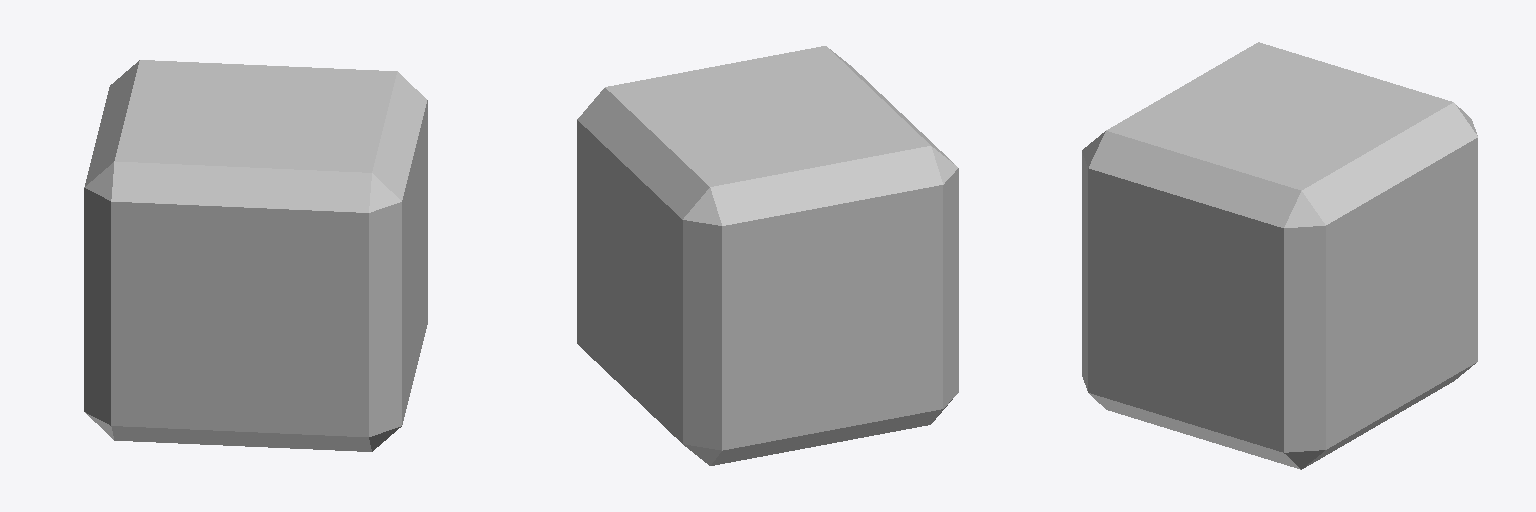
File: IceTowerProjectile.obj
3 renders of one model, left to right at view 1: azimuth 30°, elevation 25°; view 2: azimuth 150°, elevation 25°; view 3: azimuth 270°, elevation 25°, orthographic.
Parts seen in each view (by area): view 1: IceCube; view 2: IceCube; view 3: IceCube.
Part boxes in pixels (left/top/right/bottom): IceCube: left=84, top=60, right=427, bottom=451; IceCube: left=577, top=46, right=958, bottom=465; IceCube: left=1082, top=42, right=1477, bottom=469.
Bounding box in the file's own units: 1.23 × 0.9428 × 1.21.